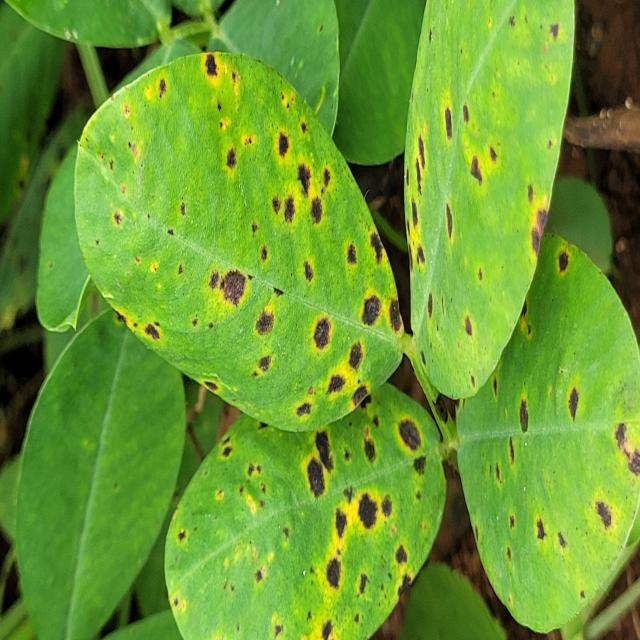Ground nut_tikka leaf spot: (78, 51, 404, 430), (455, 234, 640, 633), (166, 384, 448, 640), (405, 3, 575, 403)
